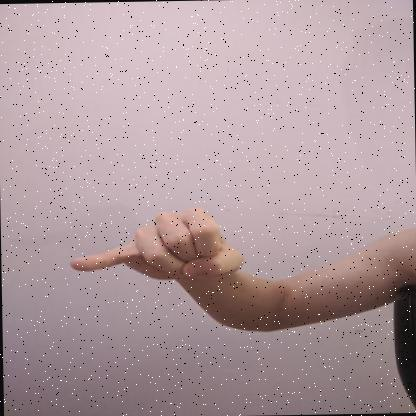J: (69, 207, 252, 283)
